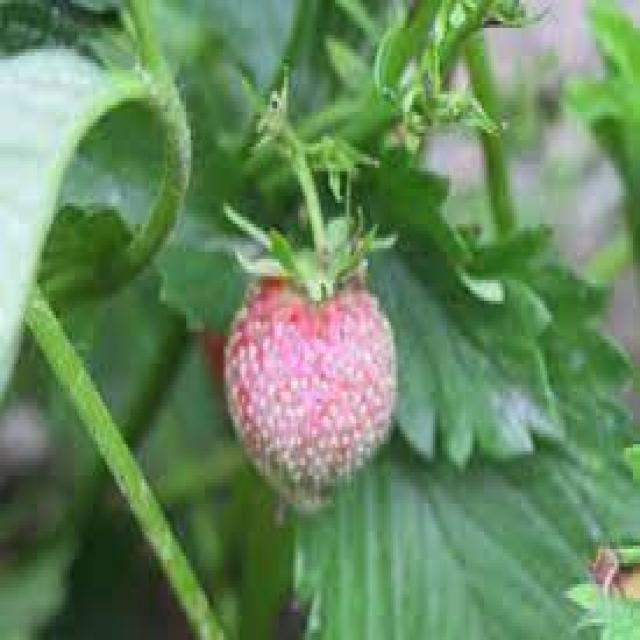Oído: (218, 278, 410, 518)
